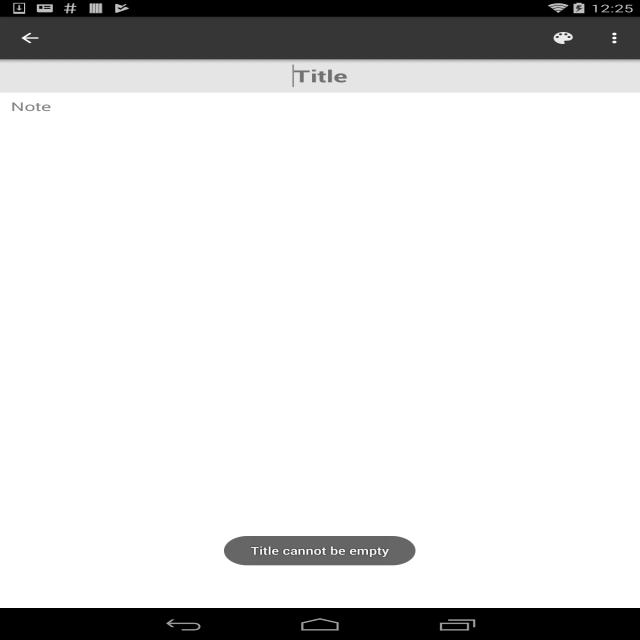EditText: (0, 59, 640, 93), (0, 98, 640, 114)
ImageButton: (0, 19, 60, 57)
ImageView: (589, 22, 640, 54)
TextView: (538, 22, 588, 54)
